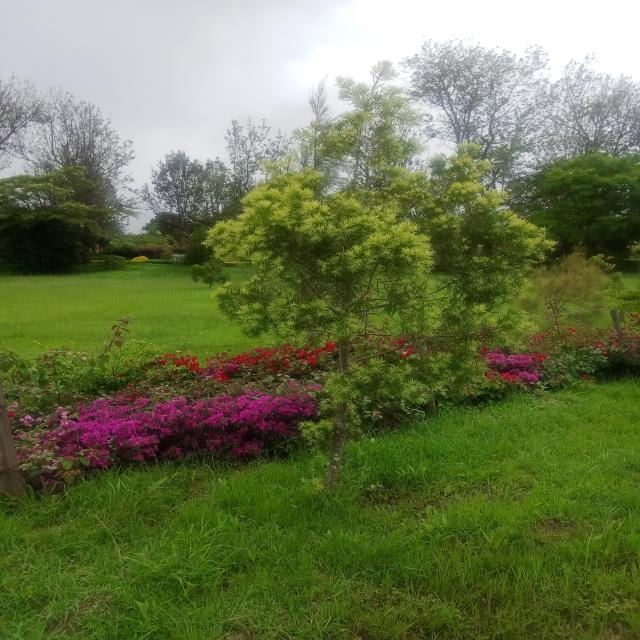Podocarpus falcatus: (204, 69, 561, 514)
